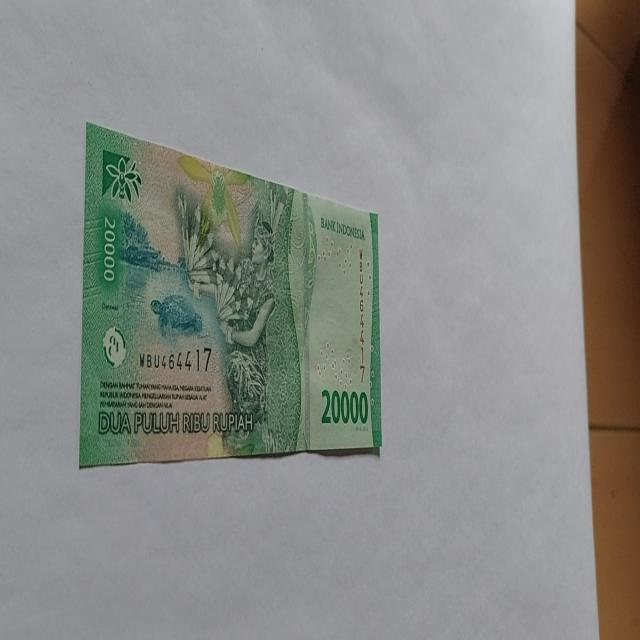dua puluh ribu rupiah: (79, 120, 382, 468)
